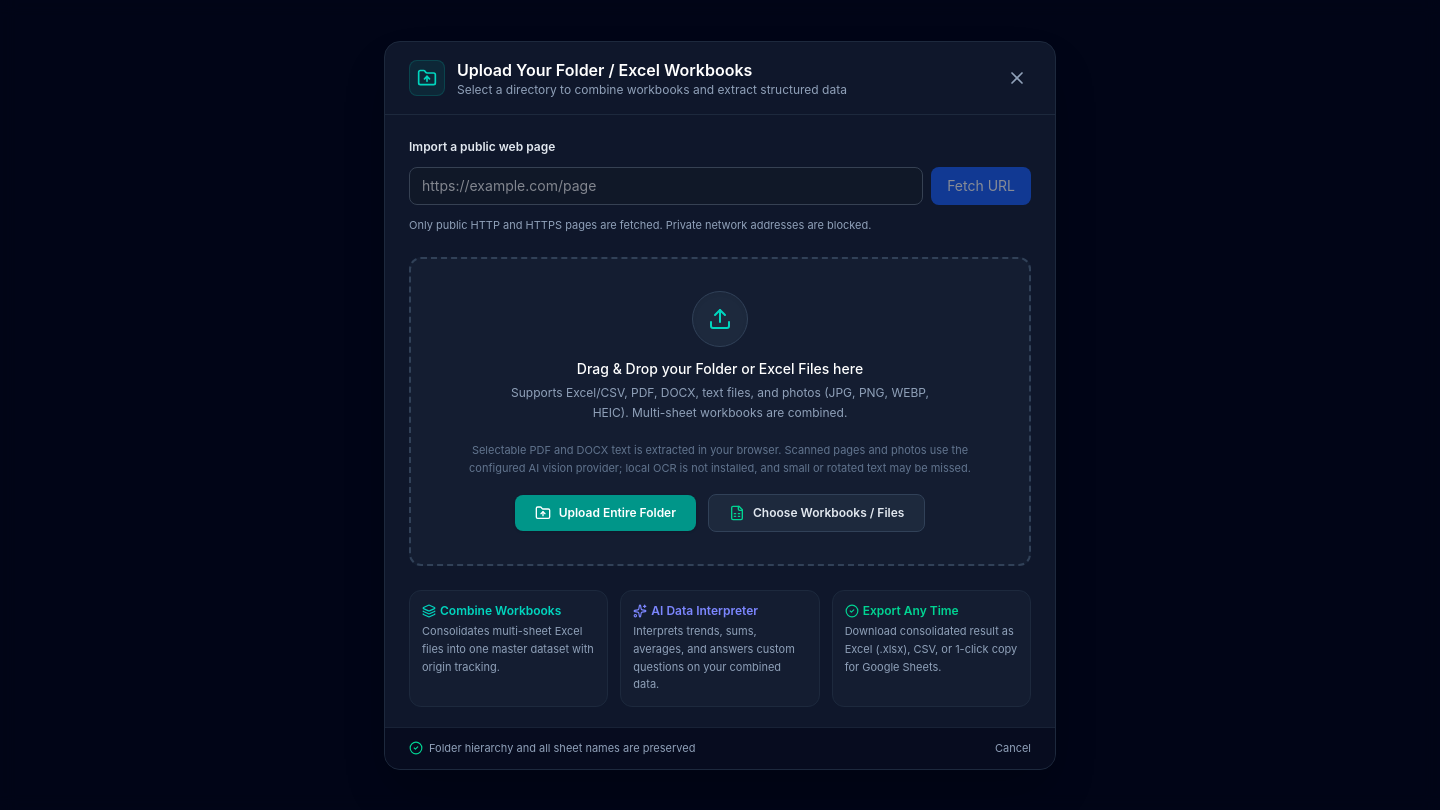
Test case: FolderUploaderModal URL import › displays a clear message for HTTP 400 responses
Type "https://example.com/data" into the field labelled "Import a public web page" at (666, 186), box [409,166,923,204]
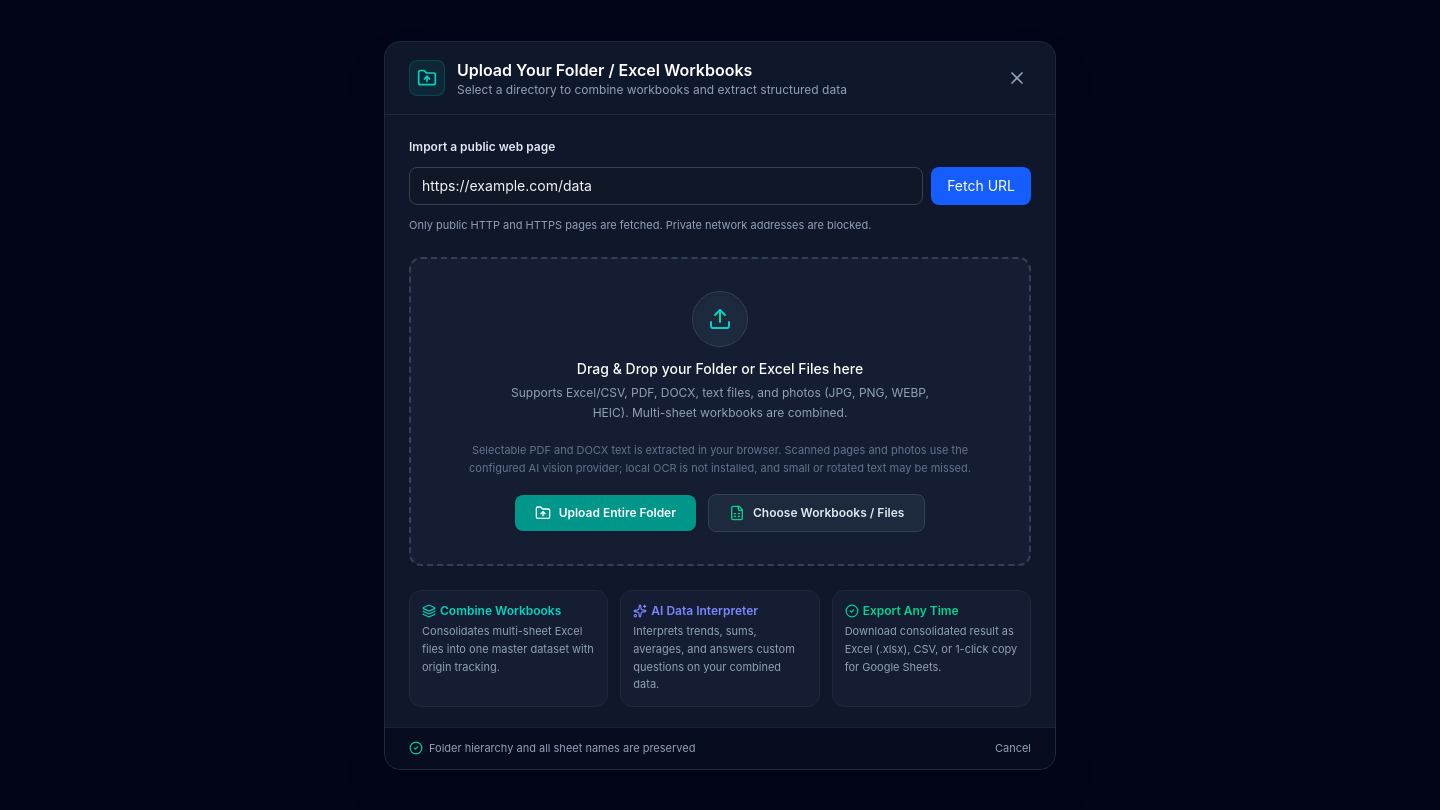
Click the button "Fetch URL" at (981, 186), box [931,166,1031,204]
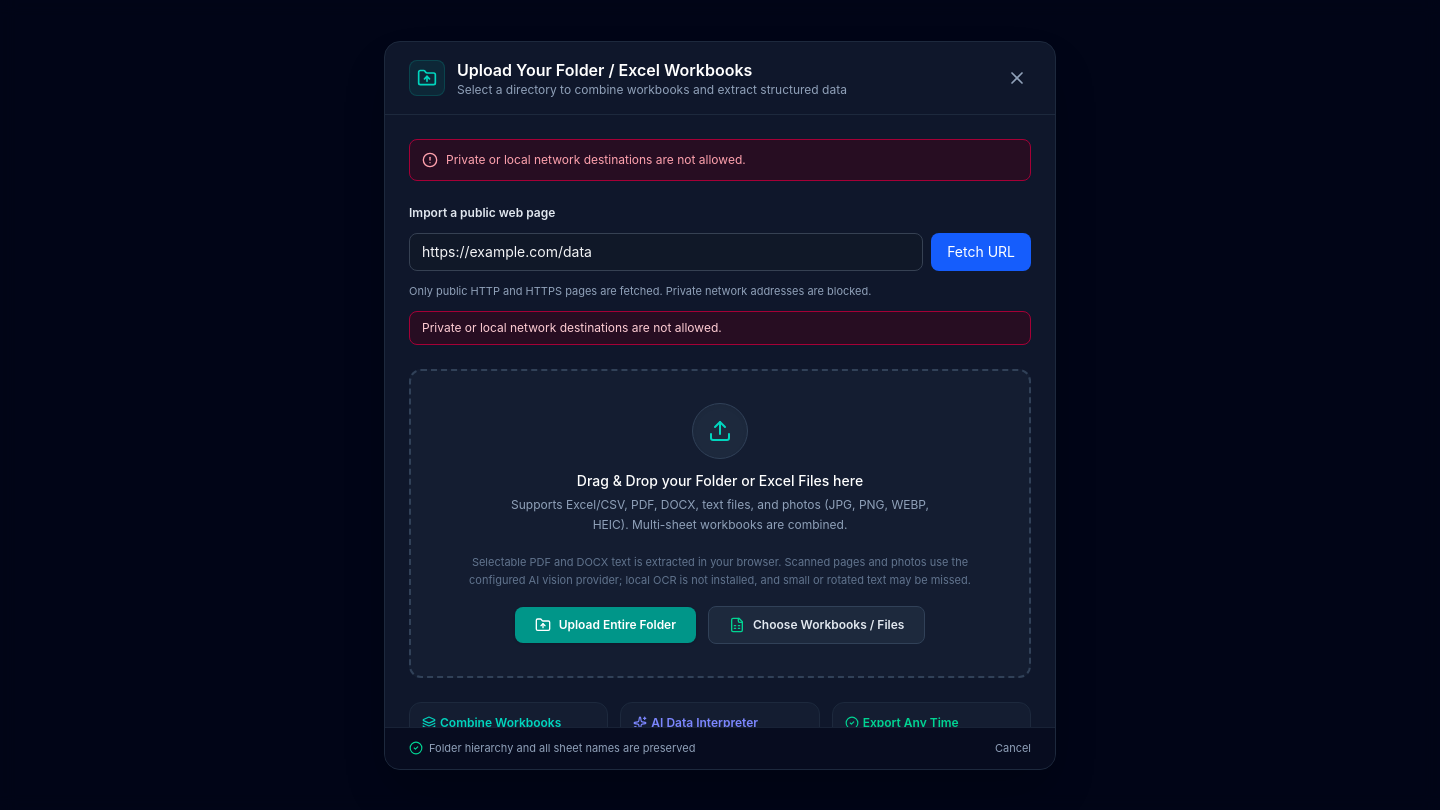
Result: the message reads "Private or local network destinations are not allowed." at [422,320,722,335]
